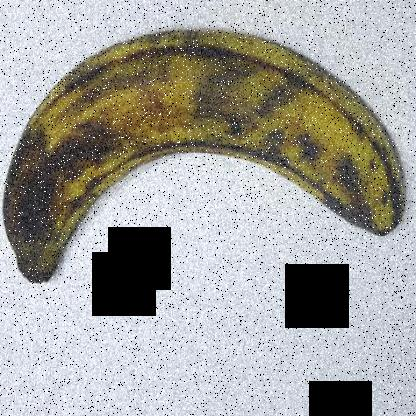overripe: (0, 14, 415, 294)
